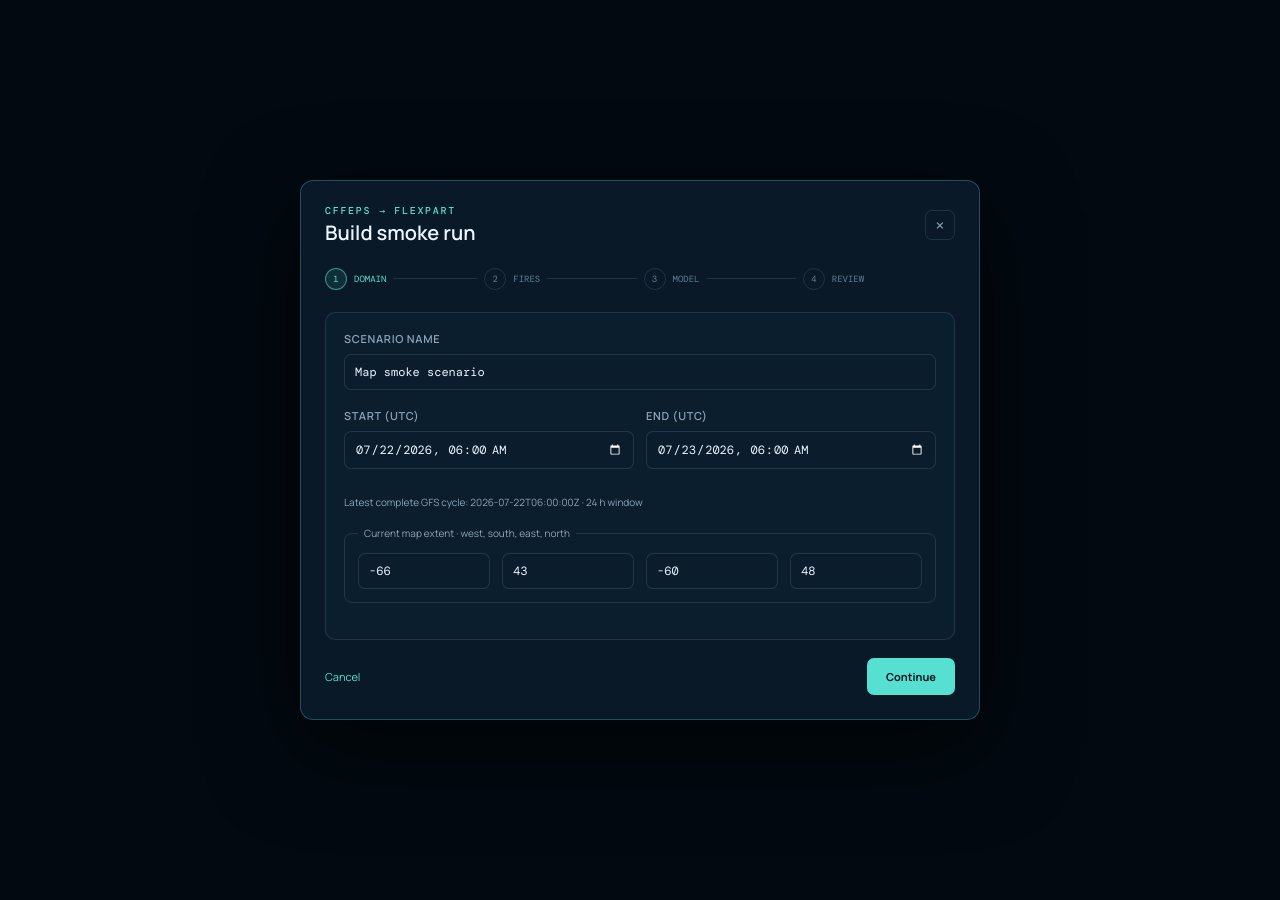
it: SmokeRunBuilder › explains the required CFFDRS codes and their units
Expected: the text "2026-07-22T06:00:00Z" is shown, [470,495,580,509]
Submit the form named "Continue", box [300,180,980,720]
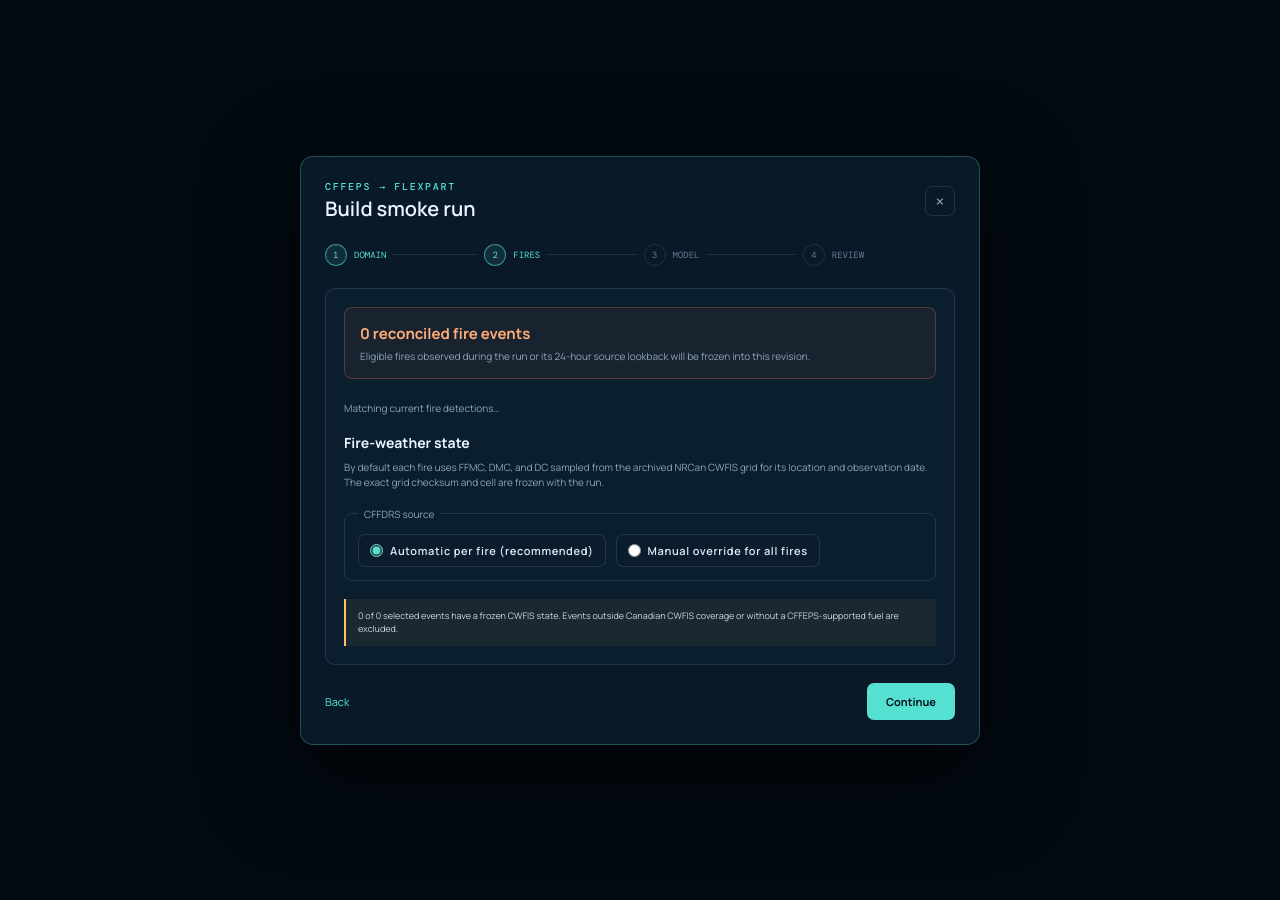
Click the radio button labelled "Manual override for all fires" at (634, 550), box [628,544,641,556]
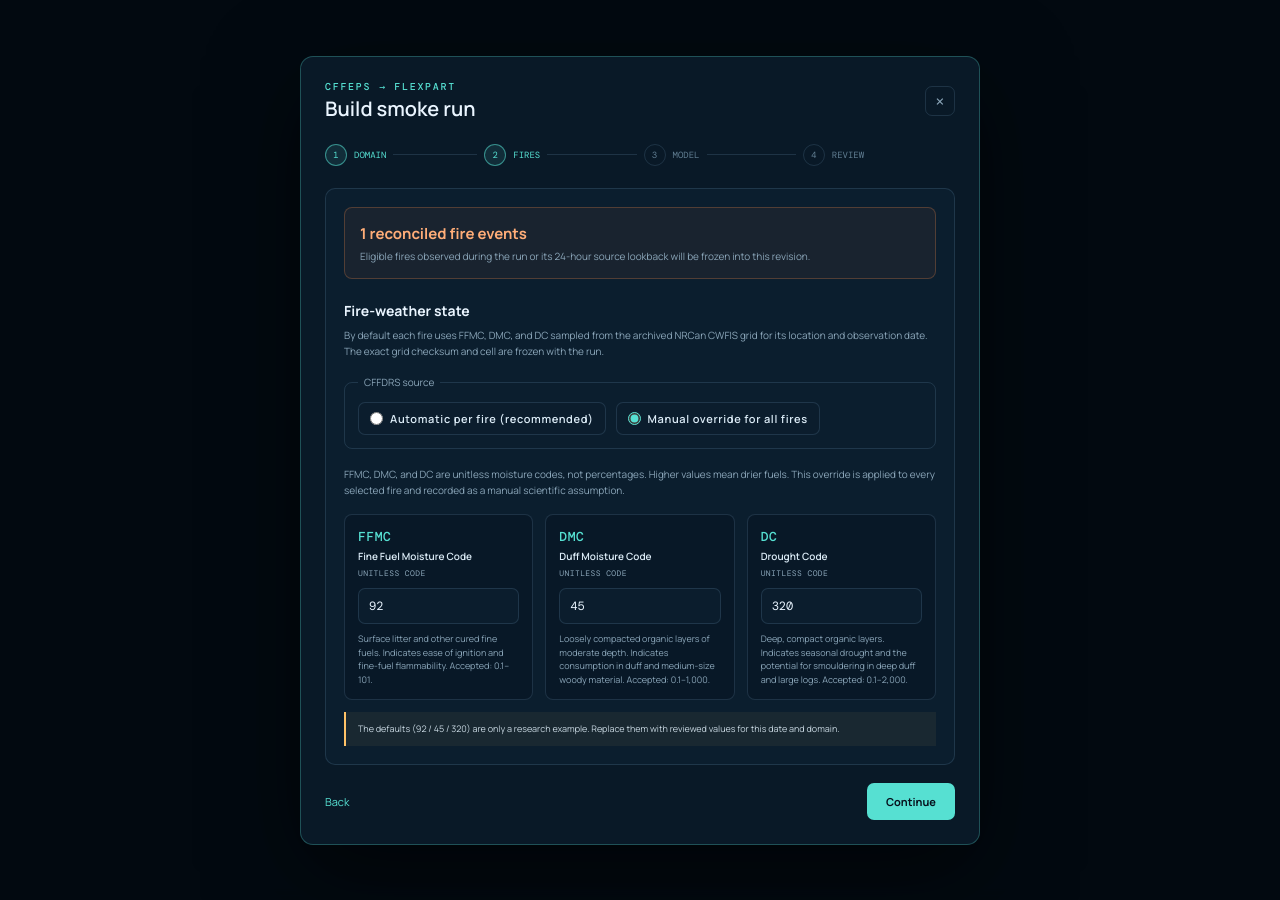
Expected: the text "Fine Fuel Moisture Code" is shown, [358,548,472,562]
Expected: the text "Duff Moisture Code" is shown, [559,548,652,562]
Expected: the text "Drought Code" is shown, [761,548,828,562]
